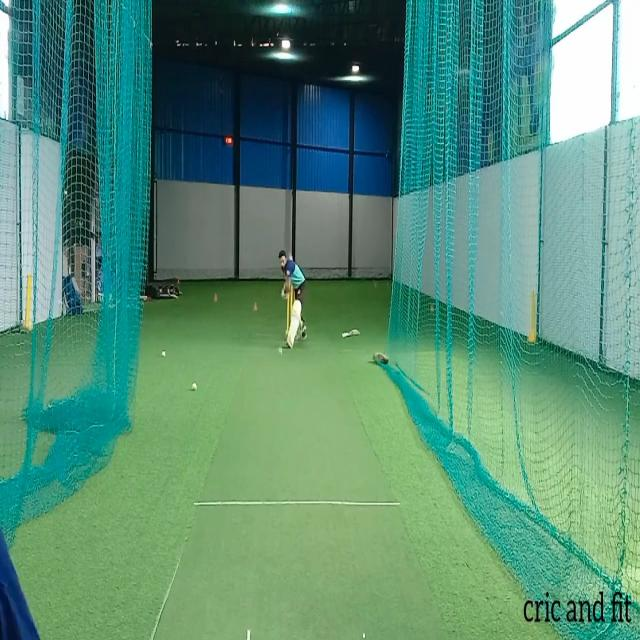batsman: (278, 248, 308, 350)
